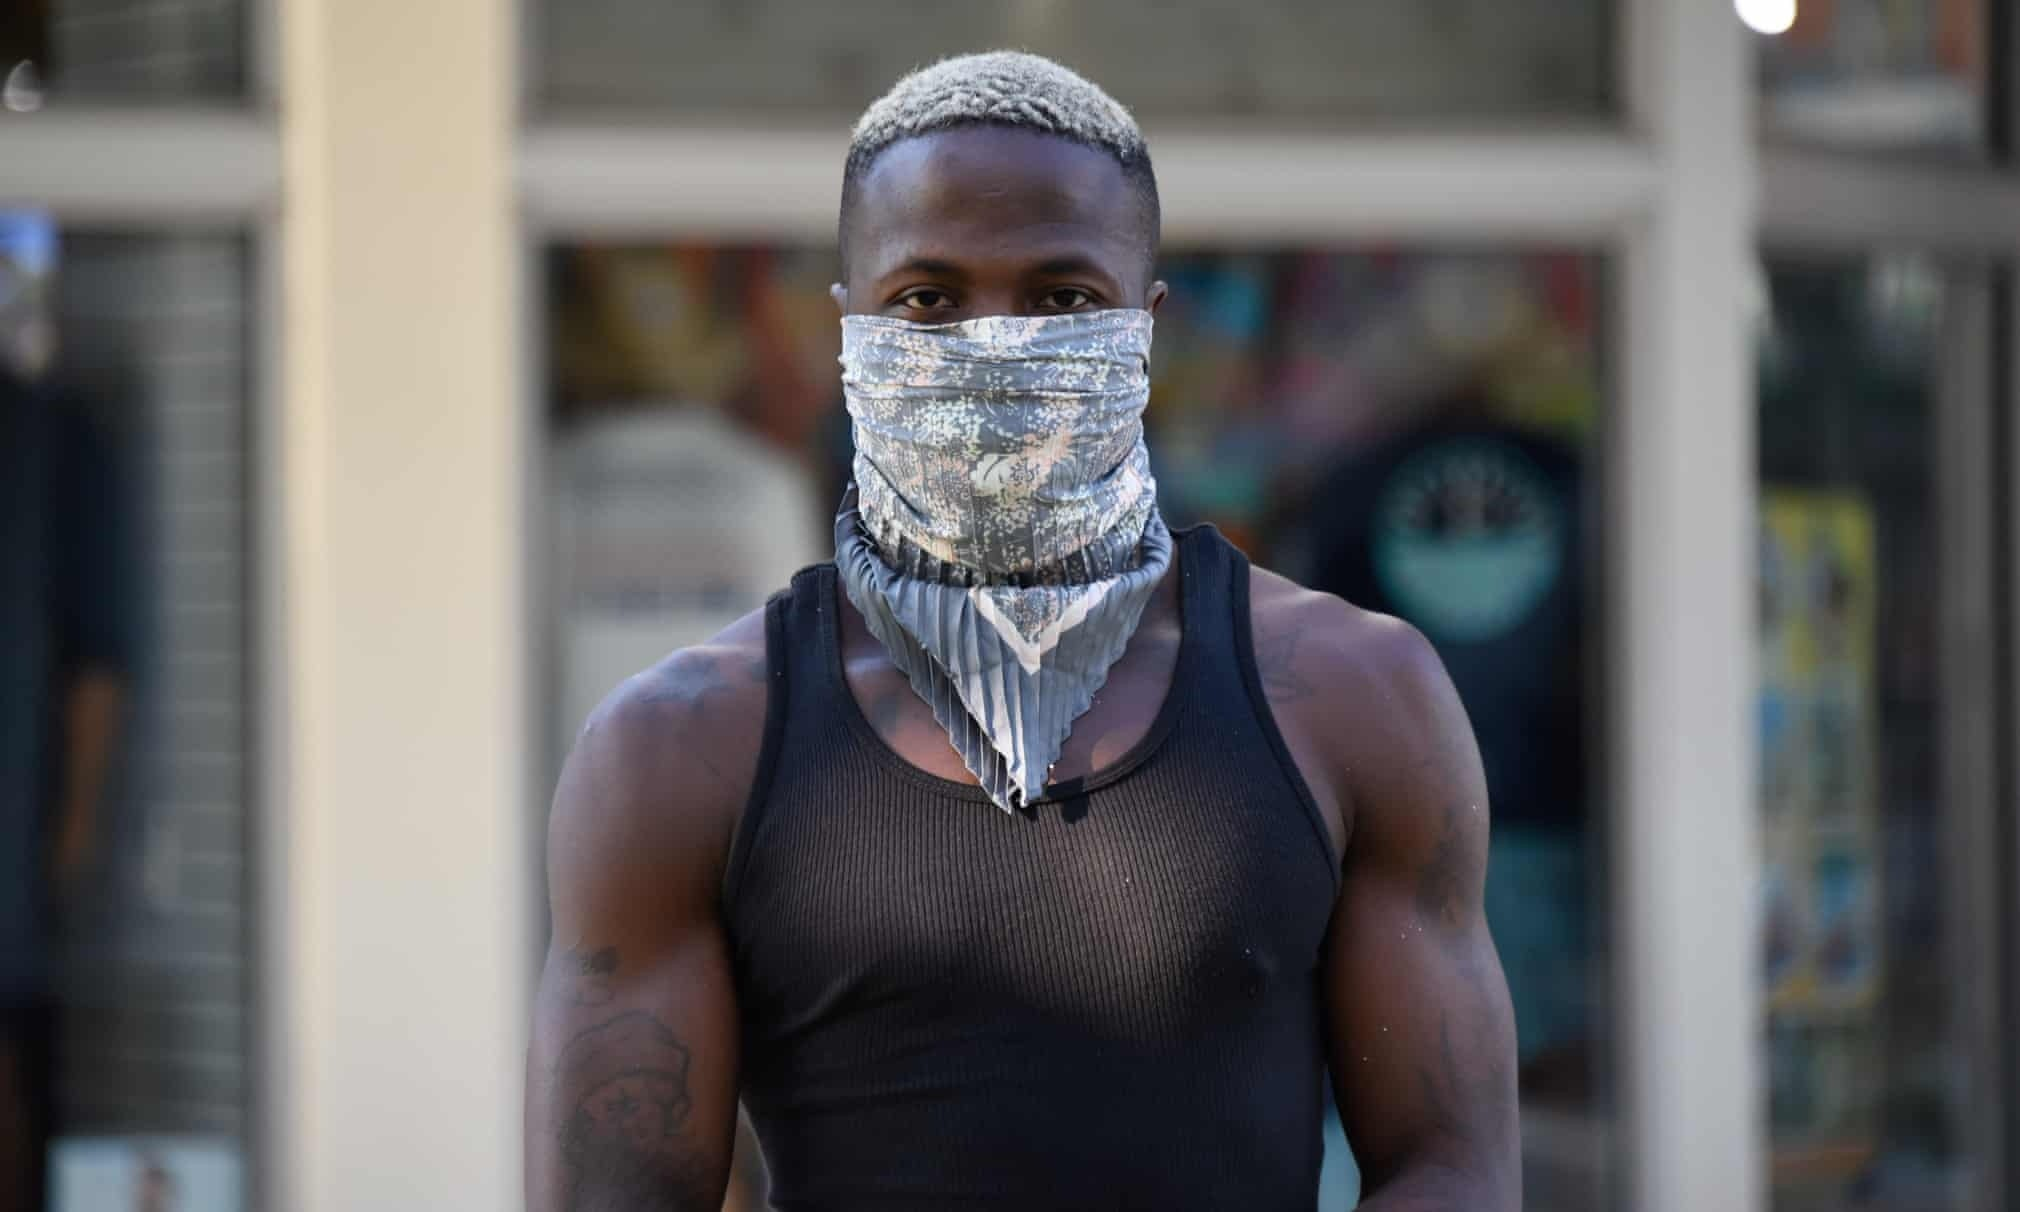face_with_mask: (829, 58, 1170, 581)
